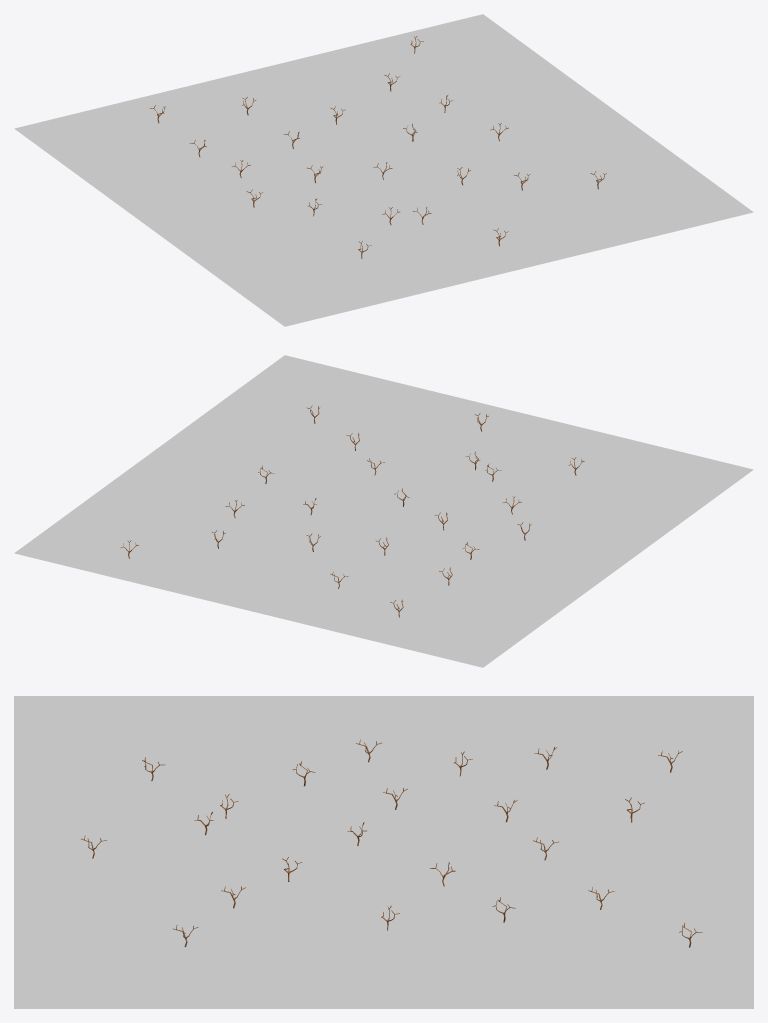
File: tile6.fbx
The picture shows the model from 3 angles, top to bottom: view 1: azimuth 30°, elevation 25°; view 2: azimuth 150°, elevation 25°; view 3: azimuth 270°, elevation 25°; orthographic projection. The views are drawn at different scales.
Visible parts, largest first — view 1: Tile6; view 2: Tile6; view 3: Tile6.
Boxes of the visible parts, x1,y1,x2,y2 form: Tile6: (14, 14, 753, 326); Tile6: (14, 355, 753, 667); Tile6: (14, 696, 753, 1008).
Size of the model in its own units: 5000 by 169 by 5000.
